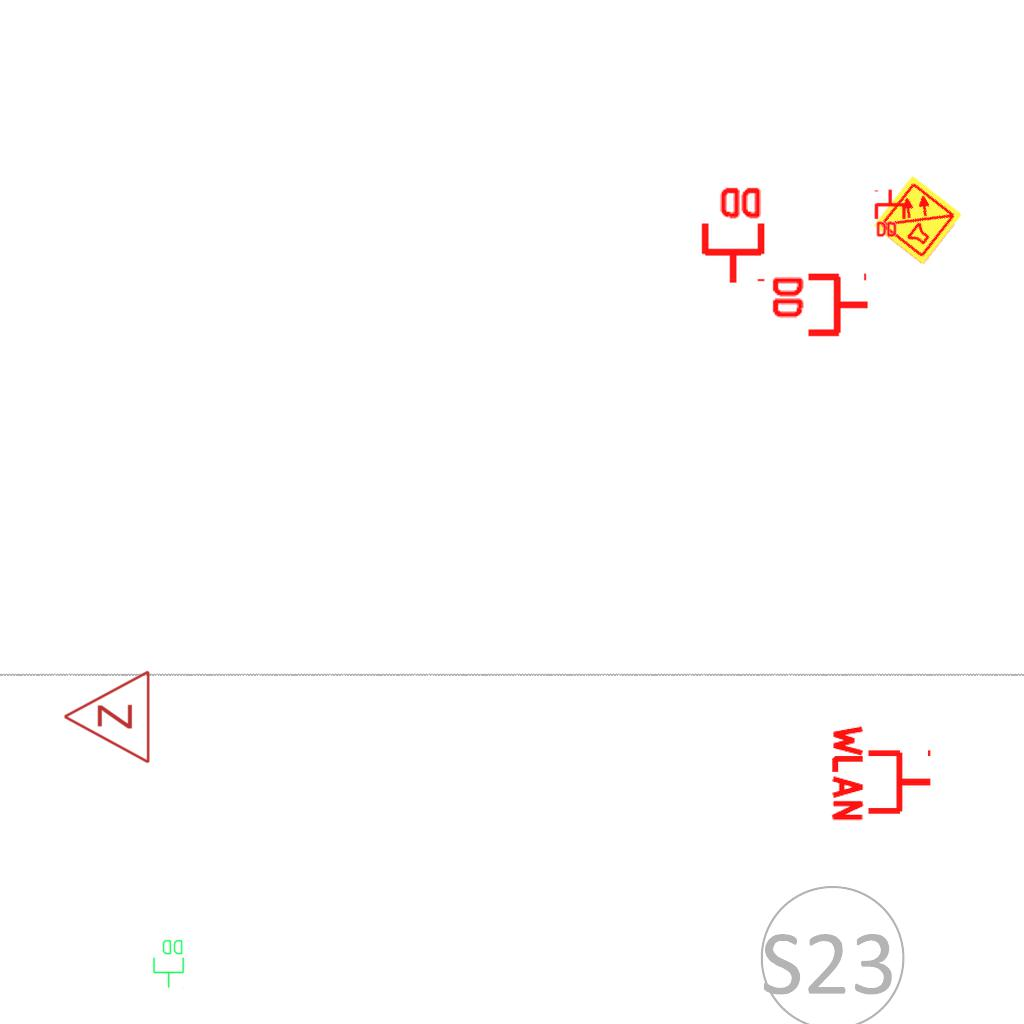Datenanschluss_zweifach: (697, 183, 766, 286), (768, 272, 871, 341), (152, 938, 186, 989), (874, 188, 908, 239)
OKW_Multisensormelder_(Kombination_optischer_Rauch-Kahlenmonoxid_Waerme-Melder): (871, 173, 965, 267)
WLAN: (830, 721, 935, 825)
Zimmersignalleuchte: (57, 669, 157, 767)
